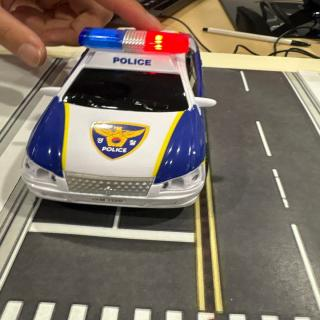Police_car: (22, 28, 216, 208)
